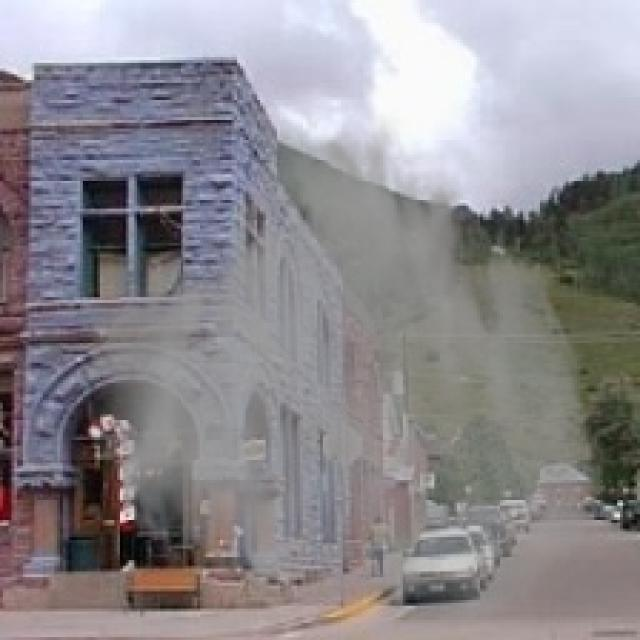Smoke: (80, 100, 609, 634)
